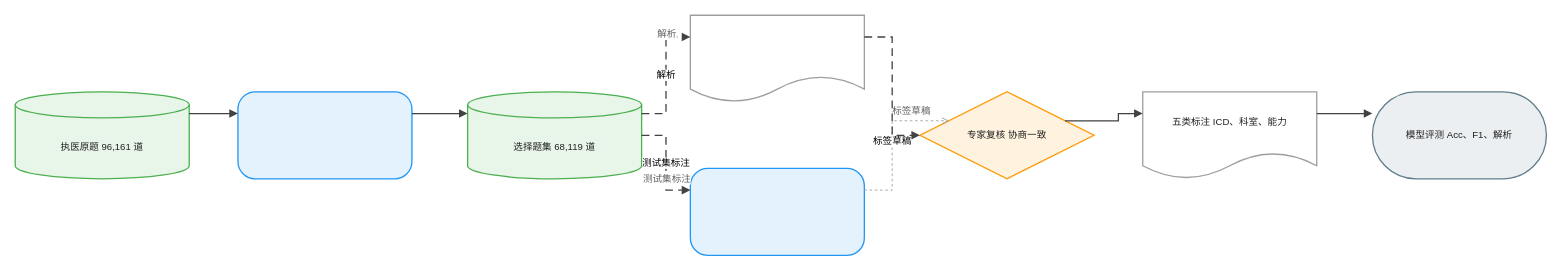
The diagram is 1563 pixels wide and 271 high, and some of its shapes have lost their labels. The shapes that lost their labels are listed below. From the top down, each one's box as (x1, y1, x2, y2) in pixels, then its label:
(689, 14, 865, 102): 题目解析 85.24%
(237, 91, 412, 179): 文本清洗 去图表
(689, 167, 865, 256): GPT 预标 标签草稿
